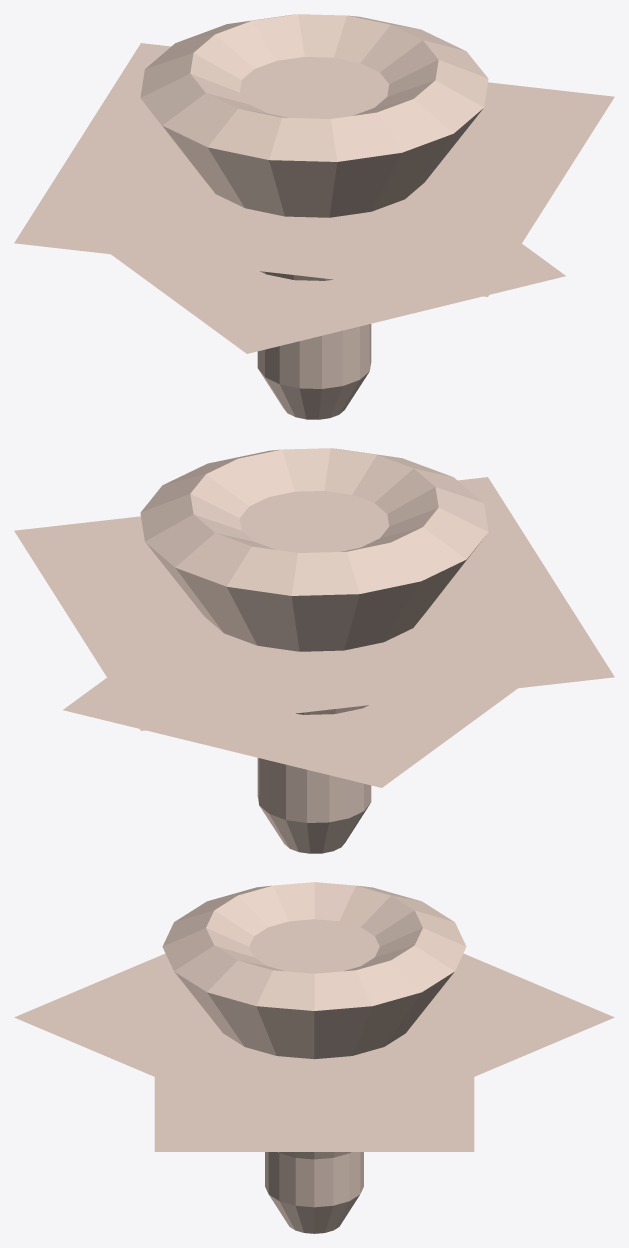
File: Devilstooth.fbx
The picture shows the model from 3 angles, top to bottom: view 1: azimuth 30°, elevation 25°; view 2: azimuth 150°, elevation 25°; view 3: azimuth 270°, elevation 25°; orthographic projection. The views are drawn at different scales.
Visible parts, largest first — view 1: Devil Tooth; view 2: Devil Tooth; view 3: Devil Tooth.
Boxes of the visible parts, <box> form: Devil Tooth: <box>14,14,614,419</box>; Devil Tooth: <box>14,448,614,853</box>; Devil Tooth: <box>14,882,614,1233</box>.
Size of the model in its own units: 395 by 214 by 395.
